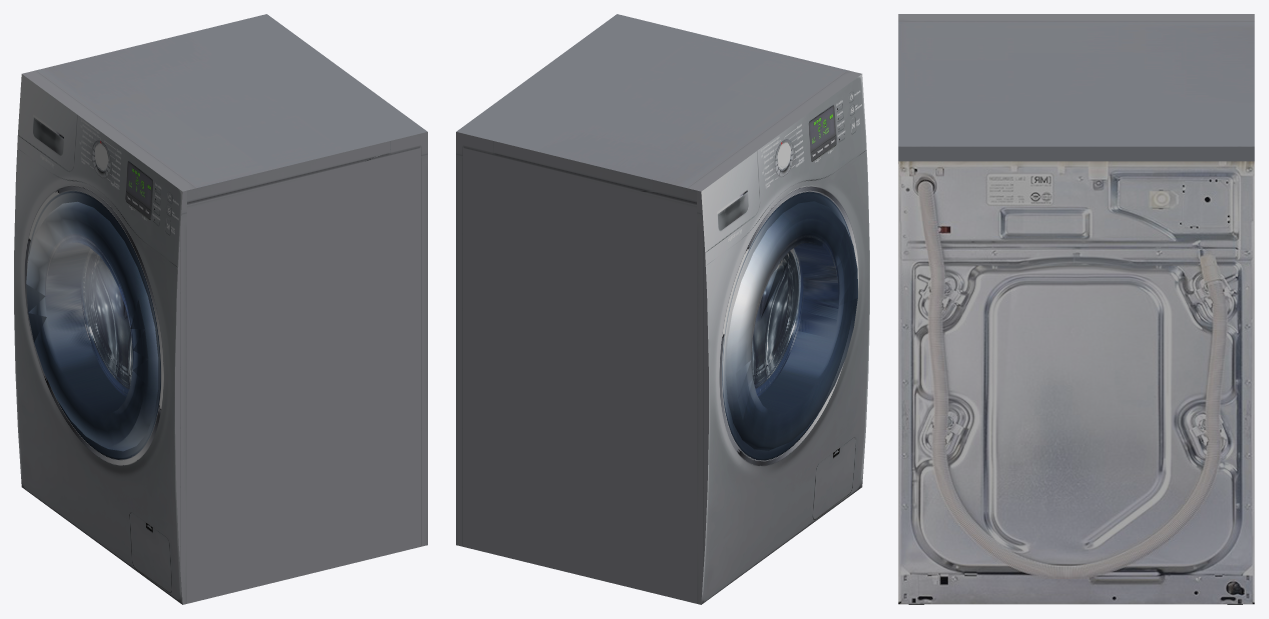
Rendered from 7A5EFA2C-C073-404E-88DB-13D5A596970E.dae.
3 views of the same model, side by side, from view 1: azimuth 30°, elevation 25°; view 2: azimuth 150°, elevation 25°; view 3: azimuth 270°, elevation 25° (orthographic). The views are drawn at different scales.
Parts seen in each view (by area): view 1: Washing_machine_gray; view 2: Washing_machine_gray; view 3: Washing_machine_gray.
Part boxes in pixels (x1,y1,x2,y2): Washing_machine_gray: (14,14,427,604); Washing_machine_gray: (456,14,869,604); Washing_machine_gray: (898,14,1254,604).
Bounding box in the file's own units: 0.56 × 0.858 × 0.5999.
5 materials, 4 textured.
